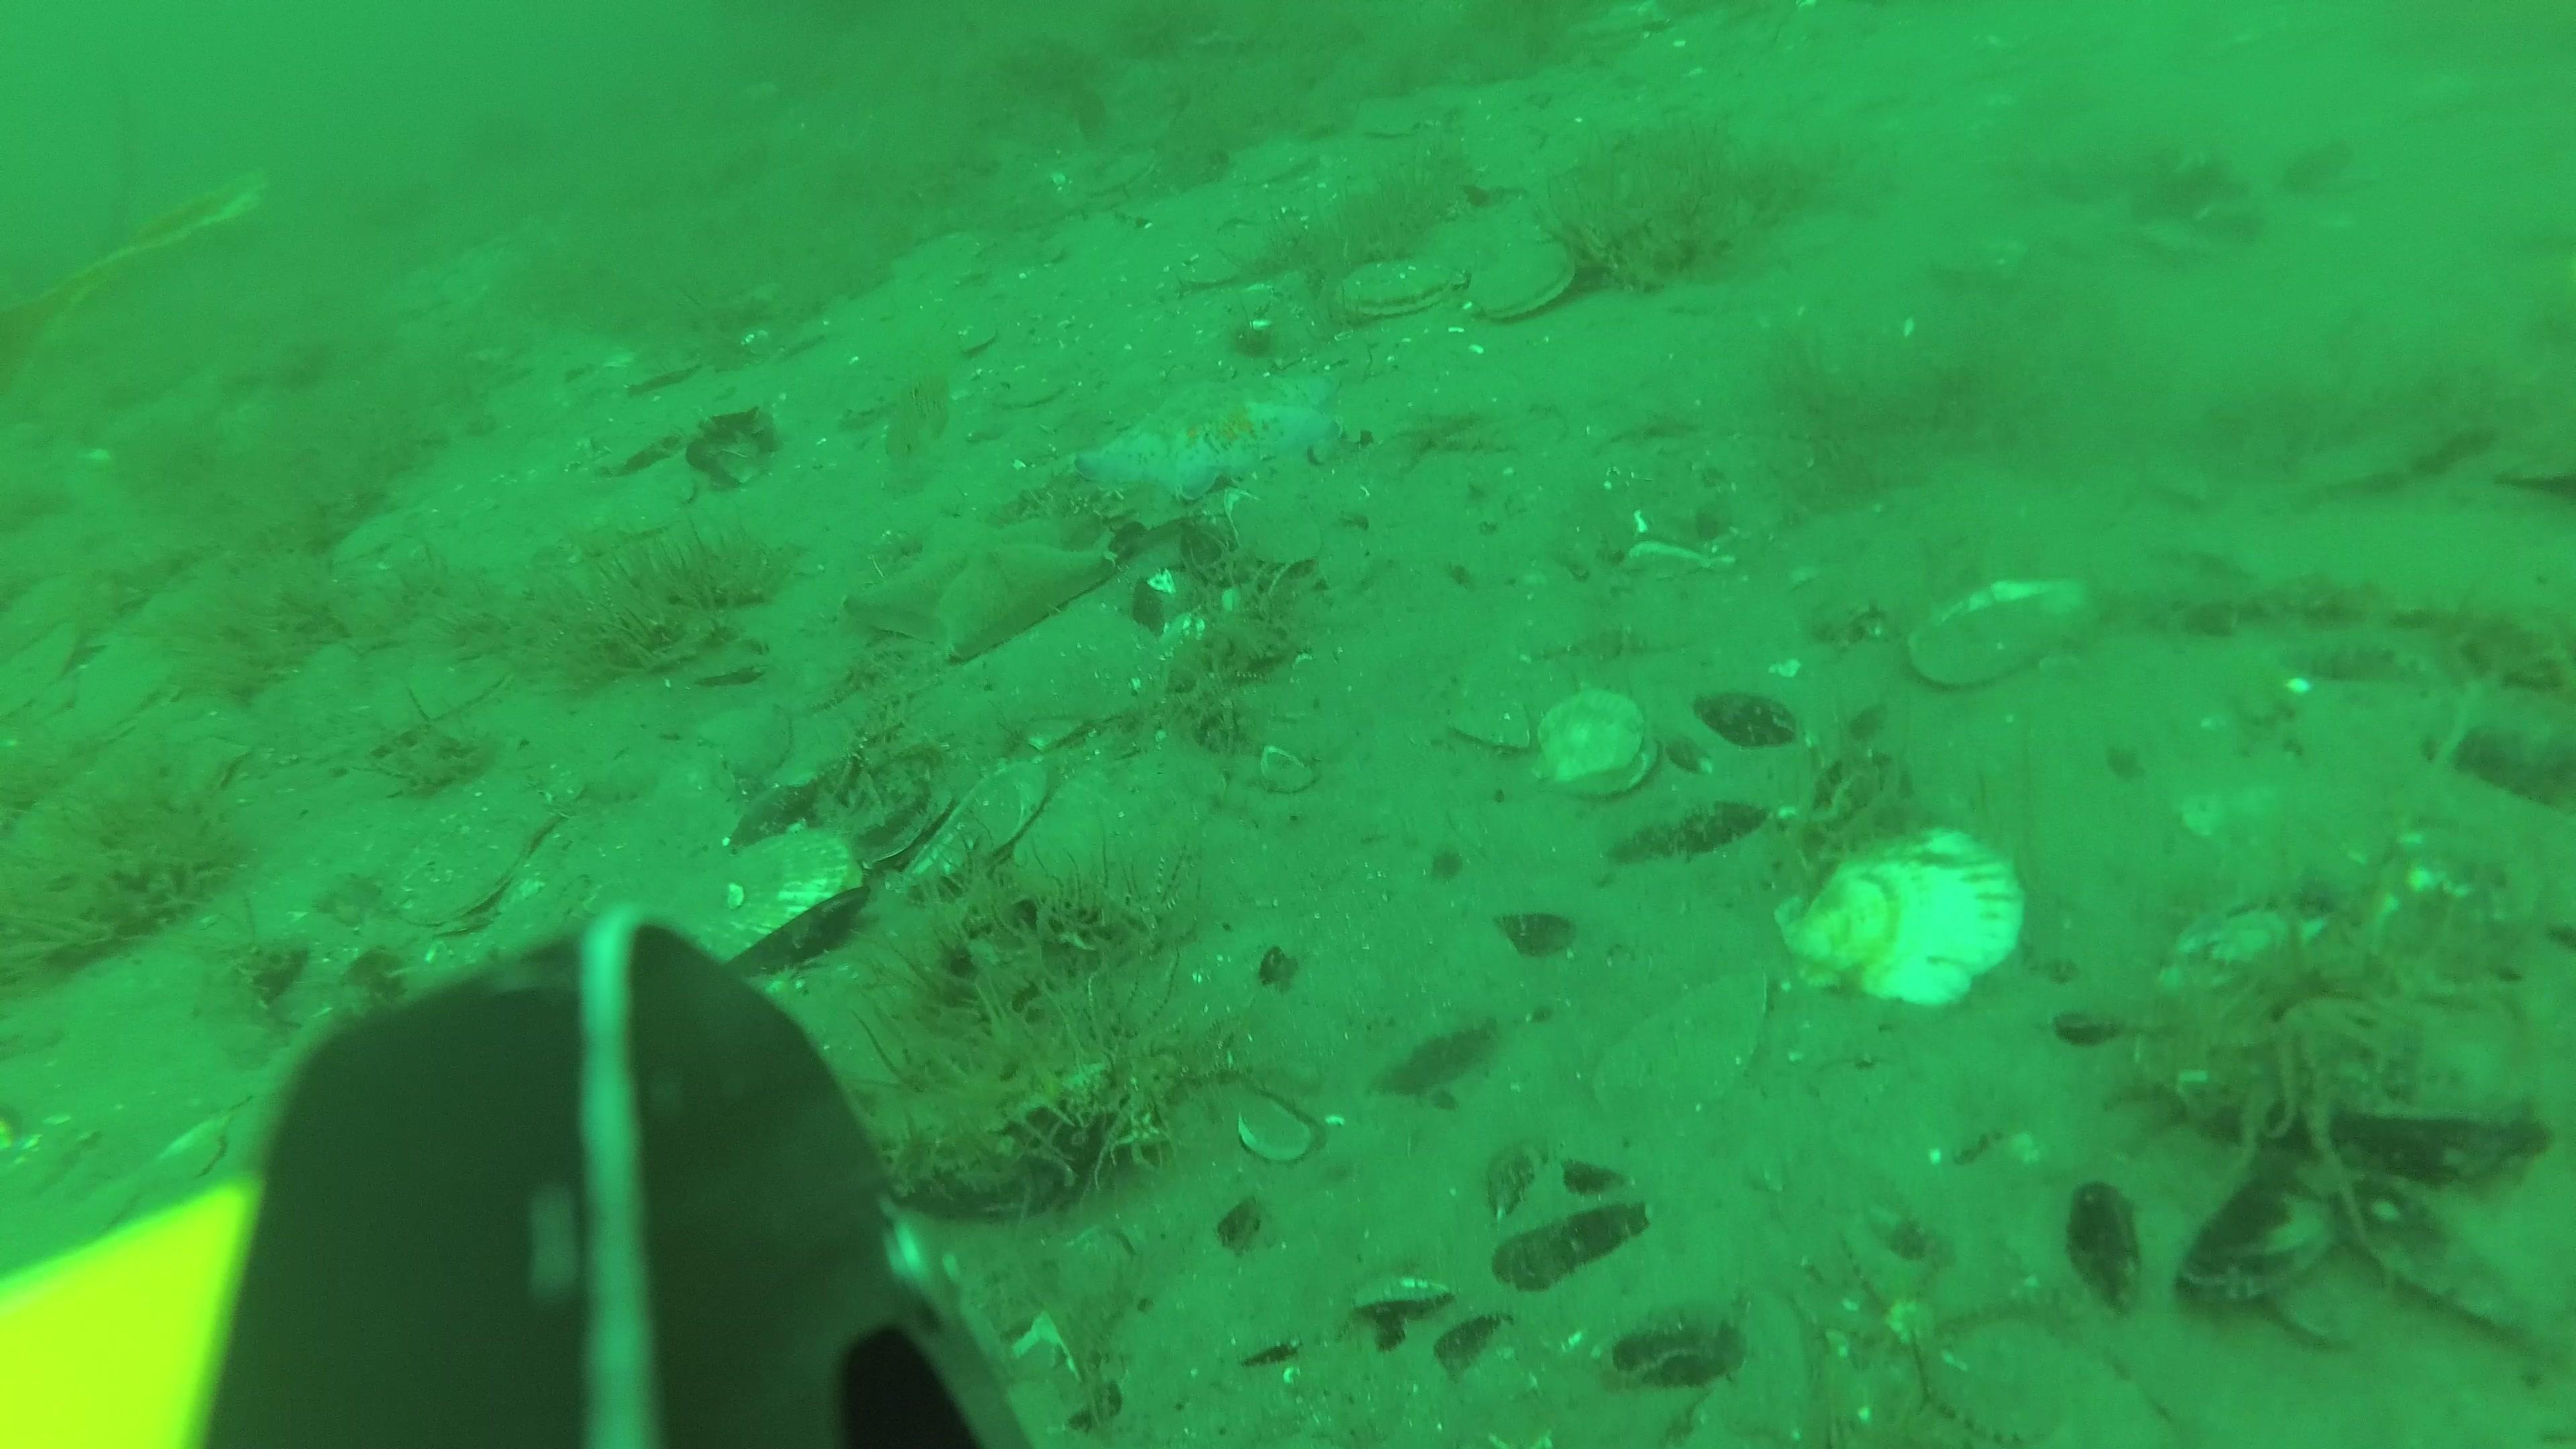scallop: (1766, 817, 2017, 1014), (679, 833, 863, 964), (1916, 575, 2088, 692), (384, 807, 533, 936), (1537, 697, 1654, 807), (1463, 239, 1575, 326), (1329, 249, 1449, 313)
starfish: (840, 504, 1127, 663), (1074, 368, 1350, 506)
